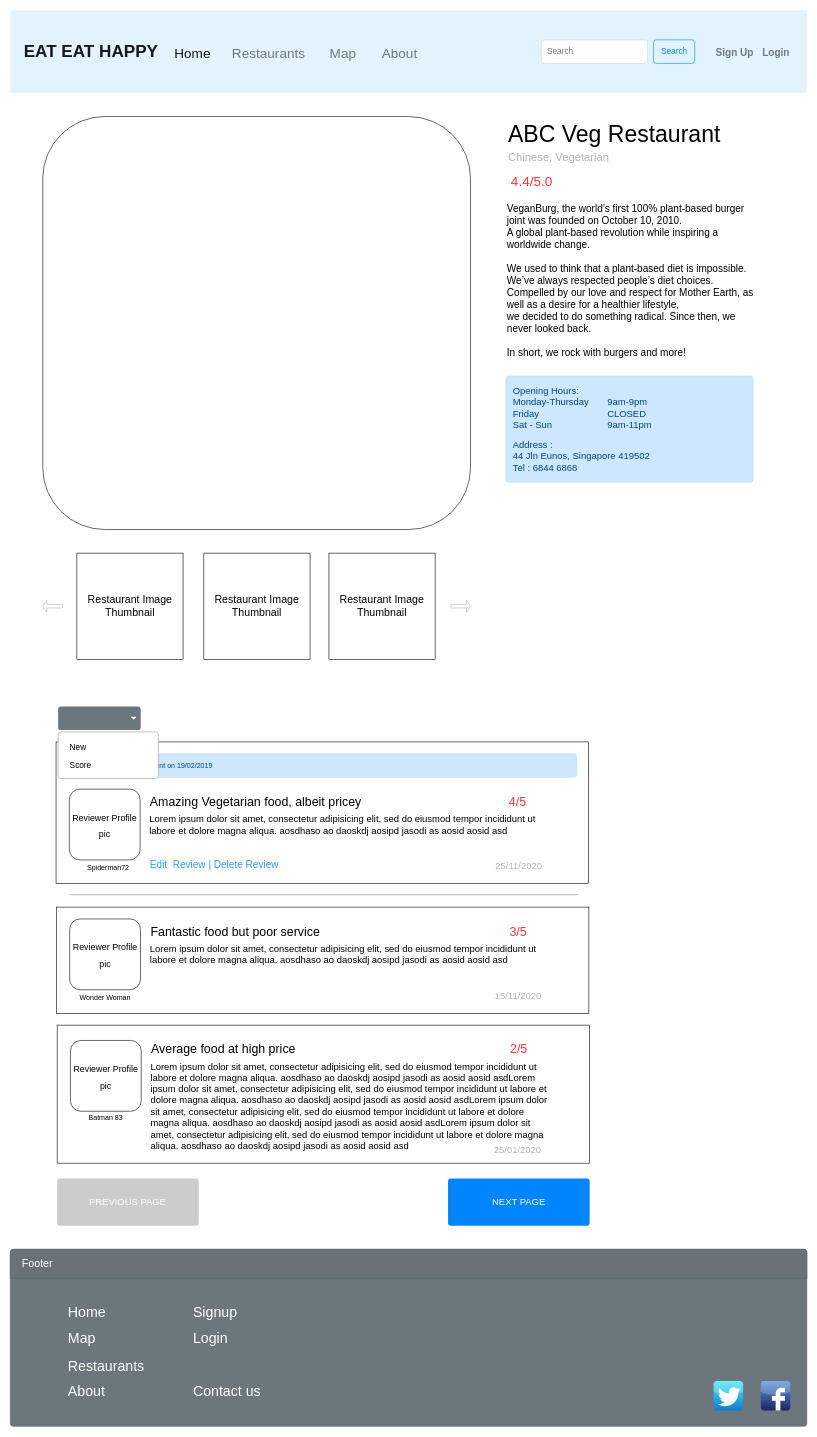
Some shapes in this 817 by 1437 pixel diagram are drawn without their labels. Here are the shapes that lost their labels. From the top down, the centre of each, then its label:
the point at 256,323: Restaurant Image
the point at 99,718: Sort By
